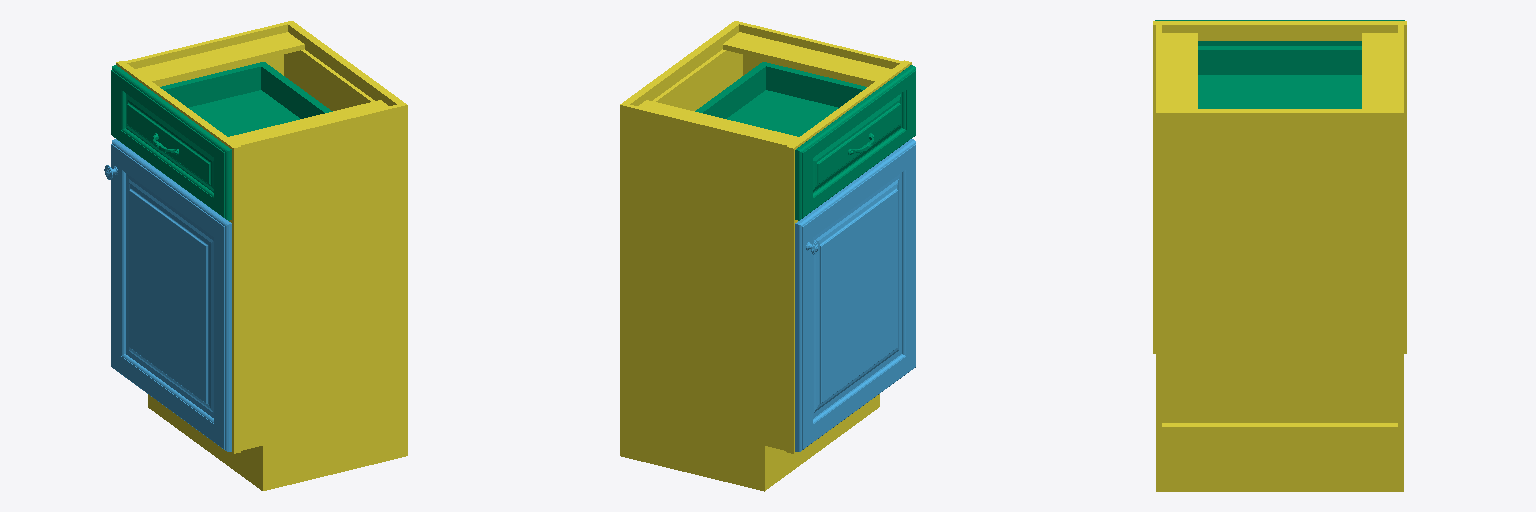
URDF robot description (partnet_3167991b1c87967ac59350d819542ec7):
<?xml version="1.0" ?>
<robot name="partnet_3167991b1c87967ac59350d819542ec7">
	<link name="base"/>
	<link name="link_0">
		<visual name="cabinet_door_surface-16">
			<origin xyz="-0.4738178842997721 -0.38418192458328726 -0.4181071925928191"/>
			<geometry>
				<mesh filename="textured_objs/original-56.obj"/>
			</geometry>
		</visual>
		<visual name="cabinet_door_surface-16">
			<origin xyz="-0.4738178842997721 -0.38418192458328726 -0.4181071925928191"/>
			<geometry>
				<mesh filename="textured_objs/original-60.obj"/>
			</geometry>
		</visual>
		<visual name="cabinet_door_surface-16">
			<origin xyz="-0.4738178842997721 -0.38418192458328726 -0.4181071925928191"/>
			<geometry>
				<mesh filename="textured_objs/original-50.obj"/>
			</geometry>
		</visual>
		<visual name="cabinet_door_surface-16">
			<origin xyz="-0.4738178842997721 -0.38418192458328726 -0.4181071925928191"/>
			<geometry>
				<mesh filename="textured_objs/original-51.obj"/>
			</geometry>
		</visual>
		<visual name="cabinet_door_surface-16">
			<origin xyz="-0.4738178842997721 -0.38418192458328726 -0.4181071925928191"/>
			<geometry>
				<mesh filename="textured_objs/original-57.obj"/>
			</geometry>
		</visual>
		<visual name="cabinet_door_surface-16">
			<origin xyz="-0.4738178842997721 -0.38418192458328726 -0.4181071925928191"/>
			<geometry>
				<mesh filename="textured_objs/original-54.obj"/>
			</geometry>
		</visual>
		<visual name="cabinet_door_surface-16">
			<origin xyz="-0.4738178842997721 -0.38418192458328726 -0.4181071925928191"/>
			<geometry>
				<mesh filename="textured_objs/original-55.obj"/>
			</geometry>
		</visual>
		<visual name="cabinet_door_surface-16">
			<origin xyz="-0.4738178842997721 -0.38418192458328726 -0.4181071925928191"/>
			<geometry>
				<mesh filename="textured_objs/original-53.obj"/>
			</geometry>
		</visual>
		<visual name="cabinet_door_surface-16">
			<origin xyz="-0.4738178842997721 -0.38418192458328726 -0.4181071925928191"/>
			<geometry>
				<mesh filename="textured_objs/original-52.obj"/>
			</geometry>
		</visual>
		<visual name="cabinet_door_surface-16">
			<origin xyz="-0.4738178842997721 -0.38418192458328726 -0.4181071925928191"/>
			<geometry>
				<mesh filename="textured_objs/original-59.obj"/>
			</geometry>
		</visual>
		<visual name="handle-17">
			<origin xyz="-0.4738178842997721 -0.38418192458328726 -0.4181071925928191"/>
			<geometry>
				<mesh filename="textured_objs/original-61.obj"/>
			</geometry>
		</visual>
		<collision>
			<origin xyz="-0.4738178842997721 -0.38418192458328726 -0.4181071925928191"/>
			<geometry>
				<mesh filename="textured_objs/original-56.obj"/>
			</geometry>
		</collision>
		<collision>
			<origin xyz="-0.4738178842997721 -0.38418192458328726 -0.4181071925928191"/>
			<geometry>
				<mesh filename="textured_objs/original-60.obj"/>
			</geometry>
		</collision>
		<collision>
			<origin xyz="-0.4738178842997721 -0.38418192458328726 -0.4181071925928191"/>
			<geometry>
				<mesh filename="textured_objs/original-50.obj"/>
			</geometry>
		</collision>
		<collision>
			<origin xyz="-0.4738178842997721 -0.38418192458328726 -0.4181071925928191"/>
			<geometry>
				<mesh filename="textured_objs/original-51.obj"/>
			</geometry>
		</collision>
		<collision>
			<origin xyz="-0.4738178842997721 -0.38418192458328726 -0.4181071925928191"/>
			<geometry>
				<mesh filename="textured_objs/original-57.obj"/>
			</geometry>
		</collision>
		<collision>
			<origin xyz="-0.4738178842997721 -0.38418192458328726 -0.4181071925928191"/>
			<geometry>
				<mesh filename="textured_objs/original-54.obj"/>
			</geometry>
		</collision>
		<collision>
			<origin xyz="-0.4738178842997721 -0.38418192458328726 -0.4181071925928191"/>
			<geometry>
				<mesh filename="textured_objs/original-55.obj"/>
			</geometry>
		</collision>
		<collision>
			<origin xyz="-0.4738178842997721 -0.38418192458328726 -0.4181071925928191"/>
			<geometry>
				<mesh filename="textured_objs/original-53.obj"/>
			</geometry>
		</collision>
		<collision>
			<origin xyz="-0.4738178842997721 -0.38418192458328726 -0.4181071925928191"/>
			<geometry>
				<mesh filename="textured_objs/original-52.obj"/>
			</geometry>
		</collision>
		<collision>
			<origin xyz="-0.4738178842997721 -0.38418192458328726 -0.4181071925928191"/>
			<geometry>
				<mesh filename="textured_objs/original-59.obj"/>
			</geometry>
		</collision>
		<collision>
			<origin xyz="-0.4738178842997721 -0.38418192458328726 -0.4181071925928191"/>
			<geometry>
				<mesh filename="textured_objs/original-61.obj"/>
			</geometry>
		</collision>
	</link>
	<joint name="joint_0" type="revolute">
		<origin xyz="0.4738178842997721 0.38418192458328726 0.4181071925928191"/>
		<axis xyz="0 1 0"/>
		<child link="link_0"/>
		<parent link="link_2"/>
		<limit lower="0.0" upper="1.6587609210954108"/>
	</joint>
	<link name="link_1">
		<visual name="drawer_side-9">
			<origin xyz="-0.0021619365588228176 -0.5549306647458297 0.3783000111579897"/>
			<geometry>
				<mesh filename="textured_objs/original-30.obj"/>
			</geometry>
		</visual>
		<visual name="drawer_side-10">
			<origin xyz="-0.0021619365588228176 -0.5549306647458297 0.3783000111579897"/>
			<geometry>
				<mesh filename="textured_objs/original-25.obj"/>
			</geometry>
		</visual>
		<visual name="drawer_back-11">
			<origin xyz="-0.0021619365588228176 -0.5549306647458297 0.3783000111579897"/>
			<geometry>
				<mesh filename="textured_objs/original-31.obj"/>
			</geometry>
		</visual>
		<visual name="drawer_bottom-12">
			<origin xyz="-0.0021619365588228176 -0.5549306647458297 0.3783000111579897"/>
			<geometry>
				<mesh filename="textured_objs/original-29.obj"/>
			</geometry>
		</visual>
		<visual name="drawer_bottom-12">
			<origin xyz="-0.0021619365588228176 -0.5549306647458297 0.3783000111579897"/>
			<geometry>
				<mesh filename="textured_objs/original-28.obj"/>
			</geometry>
		</visual>
		<visual name="drawer_front-13">
			<origin xyz="-0.0021619365588228176 -0.5549306647458297 0.3783000111579897"/>
			<geometry>
				<mesh filename="textured_objs/original-26.obj"/>
			</geometry>
		</visual>
		<visual name="drawer_front-13">
			<origin xyz="-0.0021619365588228176 -0.5549306647458297 0.3783000111579897"/>
			<geometry>
				<mesh filename="textured_objs/original-34.obj"/>
			</geometry>
		</visual>
		<visual name="drawer_front-13">
			<origin xyz="-0.0021619365588228176 -0.5549306647458297 0.3783000111579897"/>
			<geometry>
				<mesh filename="textured_objs/original-36.obj"/>
			</geometry>
		</visual>
		<visual name="drawer_front-13">
			<origin xyz="-0.0021619365588228176 -0.5549306647458297 0.3783000111579897"/>
			<geometry>
				<mesh filename="textured_objs/original-43.obj"/>
			</geometry>
		</visual>
		<visual name="drawer_front-13">
			<origin xyz="-0.0021619365588228176 -0.5549306647458297 0.3783000111579897"/>
			<geometry>
				<mesh filename="textured_objs/original-38.obj"/>
			</geometry>
		</visual>
		<visual name="drawer_front-13">
			<origin xyz="-0.0021619365588228176 -0.5549306647458297 0.3783000111579897"/>
			<geometry>
				<mesh filename="textured_objs/original-39.obj"/>
			</geometry>
		</visual>
		<visual name="drawer_front-13">
			<origin xyz="-0.0021619365588228176 -0.5549306647458297 0.3783000111579897"/>
			<geometry>
				<mesh filename="textured_objs/original-35.obj"/>
			</geometry>
		</visual>
		<visual name="drawer_front-13">
			<origin xyz="-0.0021619365588228176 -0.5549306647458297 0.3783000111579897"/>
			<geometry>
				<mesh filename="textured_objs/original-41.obj"/>
			</geometry>
		</visual>
		<visual name="drawer_front-13">
			<origin xyz="-0.0021619365588228176 -0.5549306647458297 0.3783000111579897"/>
			<geometry>
				<mesh filename="textured_objs/original-40.obj"/>
			</geometry>
		</visual>
		<visual name="drawer_front-13">
			<origin xyz="-0.0021619365588228176 -0.5549306647458297 0.3783000111579897"/>
			<geometry>
				<mesh filename="textured_objs/original-37.obj"/>
			</geometry>
		</visual>
		<visual name="drawer_front-13">
			<origin xyz="-0.0021619365588228176 -0.5549306647458297 0.3783000111579897"/>
			<geometry>
				<mesh filename="textured_objs/original-44.obj"/>
			</geometry>
		</visual>
		<visual name="other_leaf-15">
			<origin xyz="-0.0021619365588228176 -0.5549306647458297 0.3783000111579897"/>
			<geometry>
				<mesh filename="textured_objs/original-32.obj"/>
			</geometry>
		</visual>
		<visual name="handle-7">
			<origin xyz="-0.0021619365588228176 -0.5549306647458297 0.3783000111579897"/>
			<geometry>
				<mesh filename="textured_objs/original-46.obj"/>
			</geometry>
		</visual>
		<visual name="handle-7">
			<origin xyz="-0.0021619365588228176 -0.5549306647458297 0.3783000111579897"/>
			<geometry>
				<mesh filename="textured_objs/original-47.obj"/>
			</geometry>
		</visual>
		<visual name="handle-7">
			<origin xyz="-0.0021619365588228176 -0.5549306647458297 0.3783000111579897"/>
			<geometry>
				<mesh filename="textured_objs/original-48.obj"/>
			</geometry>
		</visual>
		<collision>
			<origin xyz="-0.0021619365588228176 -0.5549306647458297 0.3783000111579897"/>
			<geometry>
				<mesh filename="textured_objs/original-30.obj"/>
			</geometry>
		</collision>
		<collision>
			<origin xyz="-0.0021619365588228176 -0.5549306647458297 0.3783000111579897"/>
			<geometry>
				<mesh filename="textured_objs/original-25.obj"/>
			</geometry>
		</collision>
		<collision>
			<origin xyz="-0.0021619365588228176 -0.5549306647458297 0.3783000111579897"/>
			<geometry>
				<mesh filename="textured_objs/original-31.obj"/>
			</geometry>
		</collision>
		<collision>
			<origin xyz="-0.0021619365588228176 -0.5549306647458297 0.3783000111579897"/>
			<geometry>
				<mesh filename="textured_objs/original-29.obj"/>
			</geometry>
		</collision>
		<collision>
			<origin xyz="-0.0021619365588228176 -0.5549306647458297 0.3783000111579897"/>
			<geometry>
				<mesh filename="textured_objs/original-28.obj"/>
			</geometry>
		</collision>
		<collision>
			<origin xyz="-0.0021619365588228176 -0.5549306647458297 0.3783000111579897"/>
			<geometry>
				<mesh filename="textured_objs/original-26.obj"/>
			</geometry>
		</collision>
		<collision>
			<origin xyz="-0.0021619365588228176 -0.5549306647458297 0.3783000111579897"/>
			<geometry>
				<mesh filename="textured_objs/original-34.obj"/>
			</geometry>
		</collision>
		<collision>
			<origin xyz="-0.0021619365588228176 -0.5549306647458297 0.3783000111579897"/>
			<geometry>
				<mesh filename="textured_objs/original-36.obj"/>
			</geometry>
		</collision>
		<collision>
			<origin xyz="-0.0021619365588228176 -0.5549306647458297 0.3783000111579897"/>
			<geometry>
				<mesh filename="textured_objs/original-43.obj"/>
			</geometry>
		</collision>
		<collision>
			<origin xyz="-0.0021619365588228176 -0.5549306647458297 0.3783000111579897"/>
			<geometry>
				<mesh filename="textured_objs/original-38.obj"/>
			</geometry>
		</collision>
		<collision>
			<origin xyz="-0.0021619365588228176 -0.5549306647458297 0.3783000111579897"/>
			<geometry>
				<mesh filename="textured_objs/original-39.obj"/>
			</geometry>
		</collision>
		<collision>
			<origin xyz="-0.0021619365588228176 -0.5549306647458297 0.3783000111579897"/>
			<geometry>
				<mesh filename="textured_objs/original-35.obj"/>
			</geometry>
		</collision>
		<collision>
			<origin xyz="-0.0021619365588228176 -0.5549306647458297 0.3783000111579897"/>
			<geometry>
				<mesh filename="textured_objs/original-41.obj"/>
			</geometry>
		</collision>
		<collision>
			<origin xyz="-0.0021619365588228176 -0.5549306647458297 0.3783000111579897"/>
			<geometry>
				<mesh filename="textured_objs/original-40.obj"/>
			</geometry>
		</collision>
		<collision>
			<origin xyz="-0.0021619365588228176 -0.5549306647458297 0.3783000111579897"/>
			<geometry>
				<mesh filename="textured_objs/original-37.obj"/>
			</geometry>
		</collision>
		<collision>
			<origin xyz="-0.0021619365588228176 -0.5549306647458297 0.3783000111579897"/>
			<geometry>
				<mesh filename="textured_objs/original-44.obj"/>
			</geometry>
		</collision>
		<collision>
			<origin xyz="-0.0021619365588228176 -0.5549306647458297 0.3783000111579897"/>
			<geometry>
				<mesh filename="textured_objs/original-32.obj"/>
			</geometry>
		</collision>
		<collision>
			<origin xyz="-0.0021619365588228176 -0.5549306647458297 0.3783000111579897"/>
			<geometry>
				<mesh filename="textured_objs/original-46.obj"/>
			</geometry>
		</collision>
		<collision>
			<origin xyz="-0.0021619365588228176 -0.5549306647458297 0.3783000111579897"/>
			<geometry>
				<mesh filename="textured_objs/original-47.obj"/>
			</geometry>
		</collision>
		<collision>
			<origin xyz="-0.0021619365588228176 -0.5549306647458297 0.3783000111579897"/>
			<geometry>
				<mesh filename="textured_objs/original-48.obj"/>
			</geometry>
		</collision>
	</link>
	<joint name="joint_1" type="prismatic">
		<origin xyz="0.0021619365588228176 0.5549306647458297 -0.3783000111579897"/>
		<axis xyz="0 0 1"/>
		<child link="link_1"/>
		<parent link="link_2"/>
		<limit lower="0" upper="0.536"/>
	</joint>
	<link name="link_2">
		<visual name="shelf-34">
			<origin xyz="0 0 0"/>
			<geometry>
				<mesh filename="textured_objs/original-2.obj"/>
			</geometry>
		</visual>
		<visual name="frame_vertical_bar-27">
			<origin xyz="0 0 0"/>
			<geometry>
				<mesh filename="textured_objs/original-8.obj"/>
			</geometry>
		</visual>
		<visual name="frame_vertical_bar-28">
			<origin xyz="0 0 0"/>
			<geometry>
				<mesh filename="textured_objs/original-4.obj"/>
			</geometry>
		</visual>
		<visual name="frame_horizontal_bar-29">
			<origin xyz="0 0 0"/>
			<geometry>
				<mesh filename="textured_objs/original-5.obj"/>
			</geometry>
		</visual>
		<visual name="frame_horizontal_bar-30">
			<origin xyz="0 0 0"/>
			<geometry>
				<mesh filename="textured_objs/original-7.obj"/>
			</geometry>
		</visual>
		<visual name="frame_horizontal_bar-31">
			<origin xyz="0 0 0"/>
			<geometry>
				<mesh filename="textured_objs/original-22.obj"/>
			</geometry>
		</visual>
		<visual name="frame_horizontal_bar-32">
			<origin xyz="0 0 0"/>
			<geometry>
				<mesh filename="textured_objs/original-21.obj"/>
			</geometry>
		</visual>
		<visual name="frame_horizontal_bar-33">
			<origin xyz="0 0 0"/>
			<geometry>
				<mesh filename="textured_objs/original-18.obj"/>
			</geometry>
		</visual>
		<visual name="vertical_side_panel-35">
			<origin xyz="0 0 0"/>
			<geometry>
				<mesh filename="textured_objs/original-12.obj"/>
			</geometry>
		</visual>
		<visual name="vertical_side_panel-35">
			<origin xyz="0 0 0"/>
			<geometry>
				<mesh filename="textured_objs/original-11.obj"/>
			</geometry>
		</visual>
		<visual name="vertical_side_panel-36">
			<origin xyz="0 0 0"/>
			<geometry>
				<mesh filename="textured_objs/original-16.obj"/>
			</geometry>
		</visual>
		<visual name="vertical_side_panel-36">
			<origin xyz="0 0 0"/>
			<geometry>
				<mesh filename="textured_objs/original-15.obj"/>
			</geometry>
		</visual>
		<visual name="back_panel-37">
			<origin xyz="0 0 0"/>
			<geometry>
				<mesh filename="textured_objs/original-6.obj"/>
			</geometry>
		</visual>
		<visual name="bottom_panel-38">
			<origin xyz="0 0 0"/>
			<geometry>
				<mesh filename="textured_objs/original-3.obj"/>
			</geometry>
		</visual>
		<visual name="frame_horizontal_bar-39">
			<origin xyz="0 0 0"/>
			<geometry>
				<mesh filename="textured_objs/original-9.obj"/>
			</geometry>
		</visual>
		<visual name="other_leaf-41">
			<origin xyz="0 0 0"/>
			<geometry>
				<mesh filename="textured_objs/original-62.obj"/>
			</geometry>
		</visual>
		<visual name="base_side_panel-19">
			<origin xyz="0 0 0"/>
			<geometry>
				<mesh filename="textured_objs/original-17.obj"/>
			</geometry>
		</visual>
		<visual name="base_side_panel-20">
			<origin xyz="0 0 0"/>
			<geometry>
				<mesh filename="textured_objs/original-19.obj"/>
			</geometry>
		</visual>
		<visual name="base_side_panel-21">
			<origin xyz="0 0 0"/>
			<geometry>
				<mesh filename="textured_objs/original-13.obj"/>
			</geometry>
		</visual>
		<visual name="base_side_panel-22">
			<origin xyz="0 0 0"/>
			<geometry>
				<mesh filename="textured_objs/original-20.obj"/>
			</geometry>
		</visual>
		<collision>
			<origin xyz="0 0 0"/>
			<geometry>
				<mesh filename="textured_objs/original-2.obj"/>
			</geometry>
		</collision>
		<collision>
			<origin xyz="0 0 0"/>
			<geometry>
				<mesh filename="textured_objs/original-8.obj"/>
			</geometry>
		</collision>
		<collision>
			<origin xyz="0 0 0"/>
			<geometry>
				<mesh filename="textured_objs/original-4.obj"/>
			</geometry>
		</collision>
		<collision>
			<origin xyz="0 0 0"/>
			<geometry>
				<mesh filename="textured_objs/original-5.obj"/>
			</geometry>
		</collision>
		<collision>
			<origin xyz="0 0 0"/>
			<geometry>
				<mesh filename="textured_objs/original-7.obj"/>
			</geometry>
		</collision>
		<collision>
			<origin xyz="0 0 0"/>
			<geometry>
				<mesh filename="textured_objs/original-22.obj"/>
			</geometry>
		</collision>
		<collision>
			<origin xyz="0 0 0"/>
			<geometry>
				<mesh filename="textured_objs/original-21.obj"/>
			</geometry>
		</collision>
		<collision>
			<origin xyz="0 0 0"/>
			<geometry>
				<mesh filename="textured_objs/original-18.obj"/>
			</geometry>
		</collision>
		<collision>
			<origin xyz="0 0 0"/>
			<geometry>
				<mesh filename="textured_objs/original-12.obj"/>
			</geometry>
		</collision>
		<collision>
			<origin xyz="0 0 0"/>
			<geometry>
				<mesh filename="textured_objs/original-11.obj"/>
			</geometry>
		</collision>
		<collision>
			<origin xyz="0 0 0"/>
			<geometry>
				<mesh filename="textured_objs/original-16.obj"/>
			</geometry>
		</collision>
		<collision>
			<origin xyz="0 0 0"/>
			<geometry>
				<mesh filename="textured_objs/original-15.obj"/>
			</geometry>
		</collision>
		<collision>
			<origin xyz="0 0 0"/>
			<geometry>
				<mesh filename="textured_objs/original-6.obj"/>
			</geometry>
		</collision>
		<collision>
			<origin xyz="0 0 0"/>
			<geometry>
				<mesh filename="textured_objs/original-3.obj"/>
			</geometry>
		</collision>
		<collision>
			<origin xyz="0 0 0"/>
			<geometry>
				<mesh filename="textured_objs/original-9.obj"/>
			</geometry>
		</collision>
		<collision>
			<origin xyz="0 0 0"/>
			<geometry>
				<mesh filename="textured_objs/original-62.obj"/>
			</geometry>
		</collision>
		<collision>
			<origin xyz="0 0 0"/>
			<geometry>
				<mesh filename="textured_objs/original-17.obj"/>
			</geometry>
		</collision>
		<collision>
			<origin xyz="0 0 0"/>
			<geometry>
				<mesh filename="textured_objs/original-19.obj"/>
			</geometry>
		</collision>
		<collision>
			<origin xyz="0 0 0"/>
			<geometry>
				<mesh filename="textured_objs/original-13.obj"/>
			</geometry>
		</collision>
		<collision>
			<origin xyz="0 0 0"/>
			<geometry>
				<mesh filename="textured_objs/original-20.obj"/>
			</geometry>
		</collision>
	</link>
	<joint name="joint_2" type="fixed">
		<origin rpy="1.570796326794897 0 -1.570796326794897" xyz="0 0 0"/>
		<child link="link_2"/>
		<parent link="base"/>
	</joint>
</robot>

--- What the picture shows (computed from the rendered views, not written in the file) ---
3 views of the same robot in one strip: view 1: azimuth 30°, elevation 25°; view 2: azimuth 150°, elevation 25°; view 3: azimuth 270°, elevation 25° (orthographic).
Robot: partnet_3167991b1c87967ac59350d819542ec7 — 4 links, 3 joints (1 revolute, 1 prismatic, 1 fixed); root link base; default pose: every joint at zero.
Links seen in each view (by area): view 1: link_2, link_0, link_1; view 2: link_2, link_0, link_1; view 3: link_2, link_1.
Link boxes in pixels (x1=…): link_2: x1=116, y1=21, x2=407, y2=490; link_0: x1=104, y1=139, x2=231, y2=451; link_1: x1=111, y1=62, x2=332, y2=220; link_2: x1=620, y1=21, x2=911, y2=491; link_0: x1=795, y1=139, x2=915, y2=451; link_1: x1=695, y1=62, x2=915, y2=220; link_2: x1=1153, y1=21, x2=1406, y2=491; link_1: x1=1155, y1=20, x2=1404, y2=108.
Size in the robot's own frame: 0.9206 by 0.9723 by 1.6 metres.
51 mesh visuals loaded from 51 distinct referenced files (51 OBJ).
